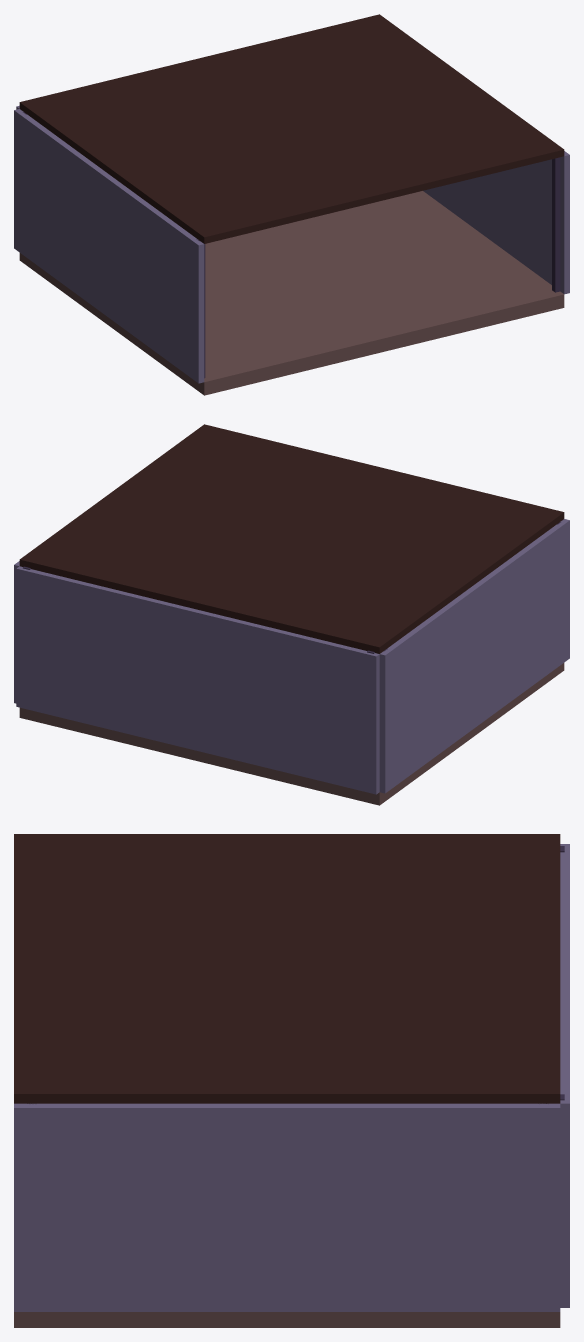
The model's file is room_shell.obj.
3 views of the same model, one above another, from view 1: azimuth 30°, elevation 25°; view 2: azimuth 150°, elevation 25°; view 3: azimuth 270°, elevation 25° (orthographic). The views are drawn at different scales.
Visible parts, largest first — view 1: room_shell; view 2: room_shell; view 3: room_shell.
Part boxes in pixels (bbox=[...]): room_shell: bbox=[14, 14, 569, 395]; room_shell: bbox=[14, 424, 569, 805]; room_shell: bbox=[14, 834, 569, 1327].
Bounding box in the file's own units: 9.28 × 3.78 × 8.14.
